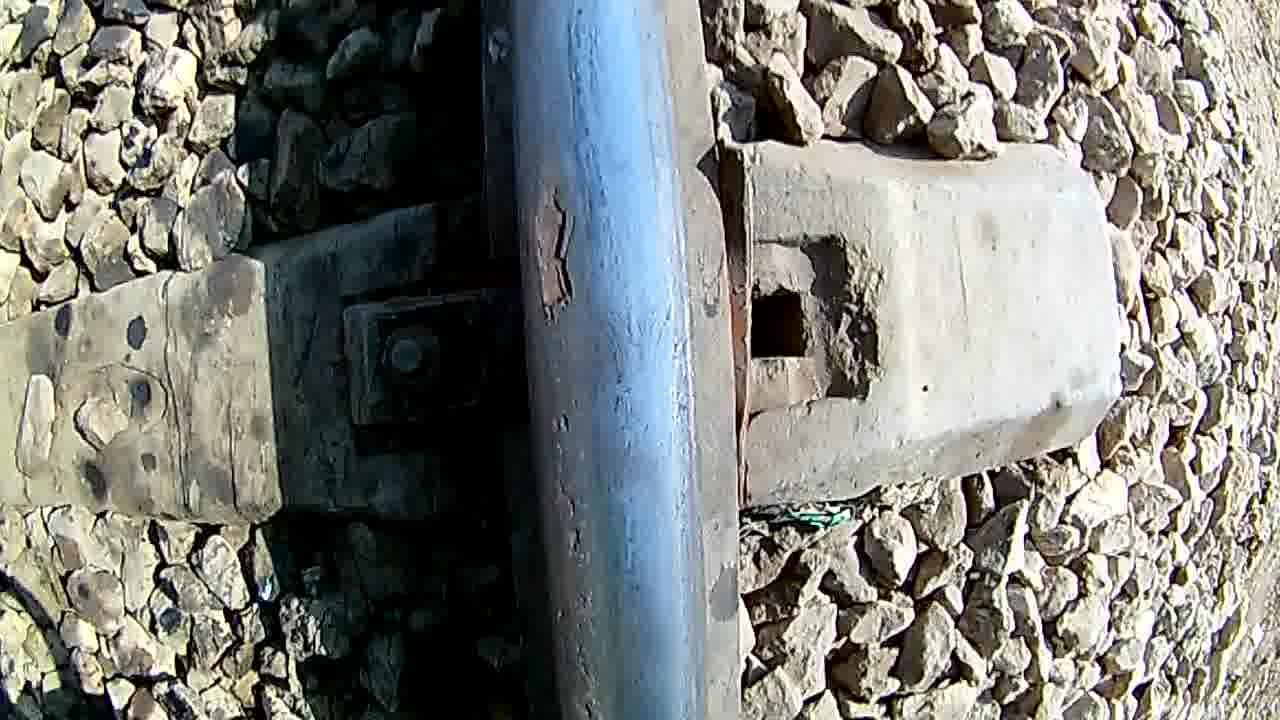crack: (509, 4, 687, 720)
